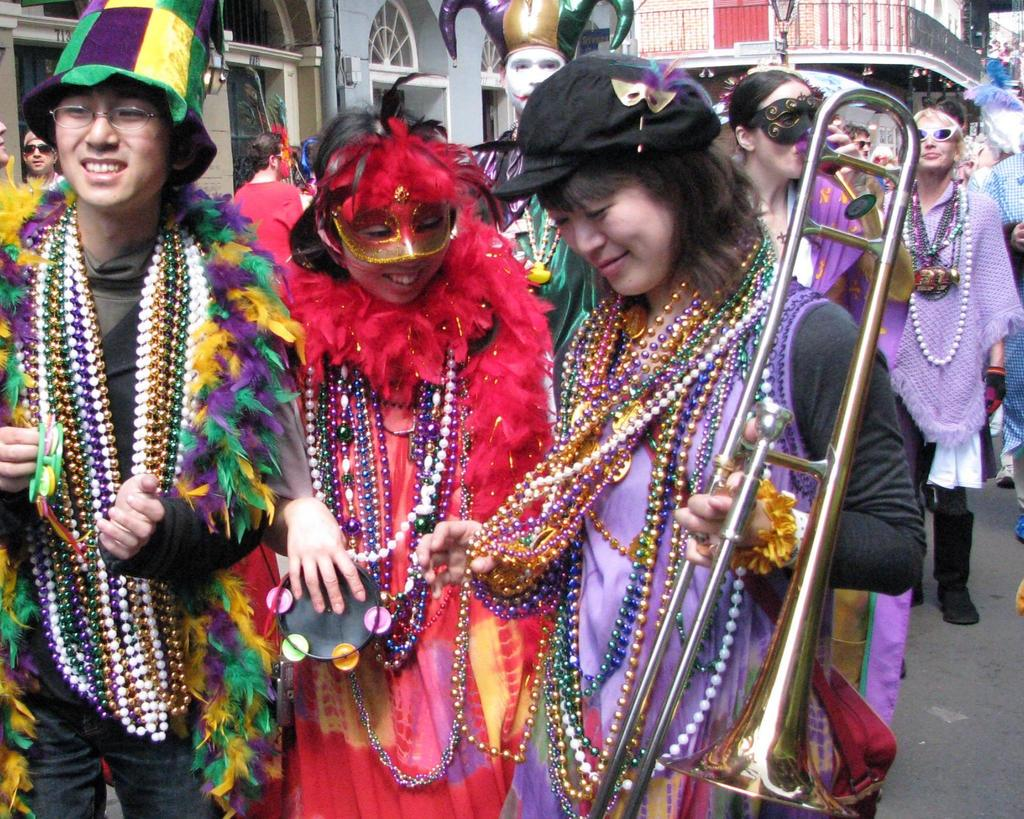Hat: (18, 0, 222, 190), (491, 48, 722, 198)
